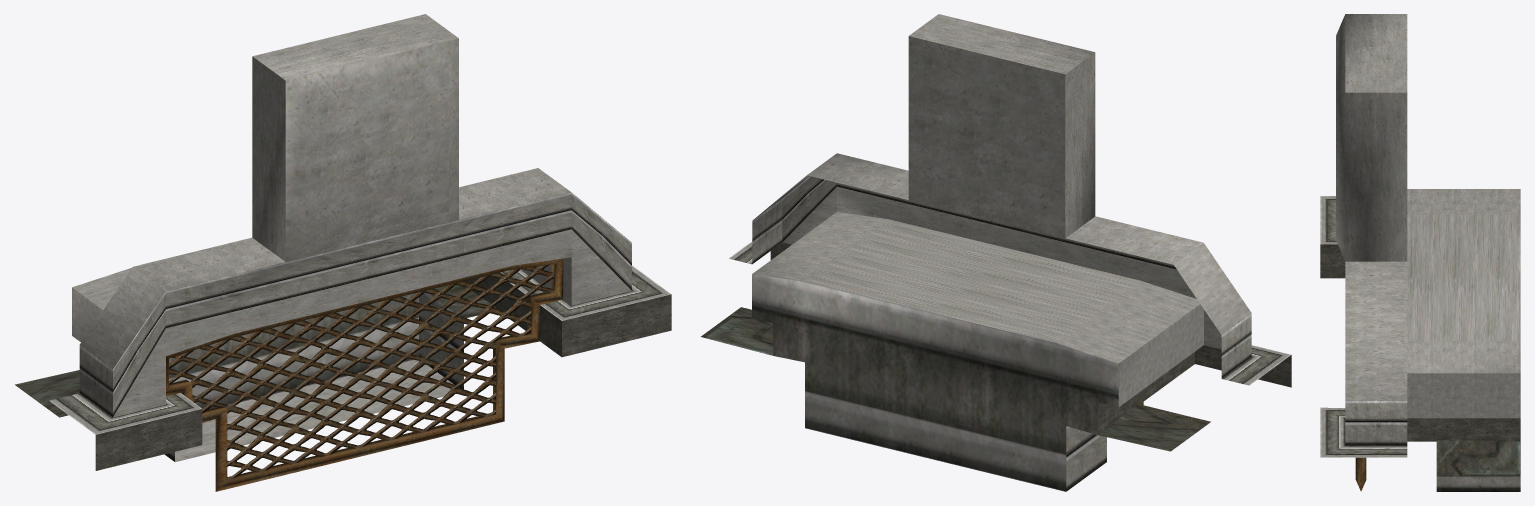
File: DWARF_PALACE_WATERROOM_CANAL_VENT07.fbx
3 views of the same model, side by side, from view 1: azimuth 30°, elevation 25°; view 2: azimuth 150°, elevation 25°; view 3: azimuth 270°, elevation 25° (orthographic). The views are drawn at different scales.
Parts seen in each view (by area): view 1: DWARF_PALACE_WATERROOM_CANAL_VENT07; view 2: DWARF_PALACE_WATERROOM_CANAL_VENT07; view 3: DWARF_PALACE_WATERROOM_CANAL_VENT07.
Boxes of the visible parts, left/top/right/bottom form: DWARF_PALACE_WATERROOM_CANAL_VENT07: left=15, top=14, right=671, bottom=491; DWARF_PALACE_WATERROOM_CANAL_VENT07: left=701, top=14, right=1291, bottom=491; DWARF_PALACE_WATERROOM_CANAL_VENT07: left=1320, top=14, right=1520, bottom=491.
Bounding box in the file's own units: 49831 × 33273 × 16097.
Materials: 7 (7 with a texture image).
